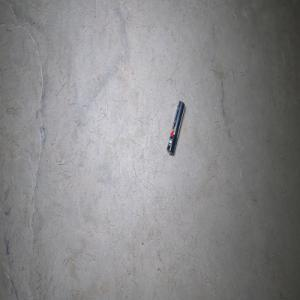Battery: (166, 99, 185, 155)
